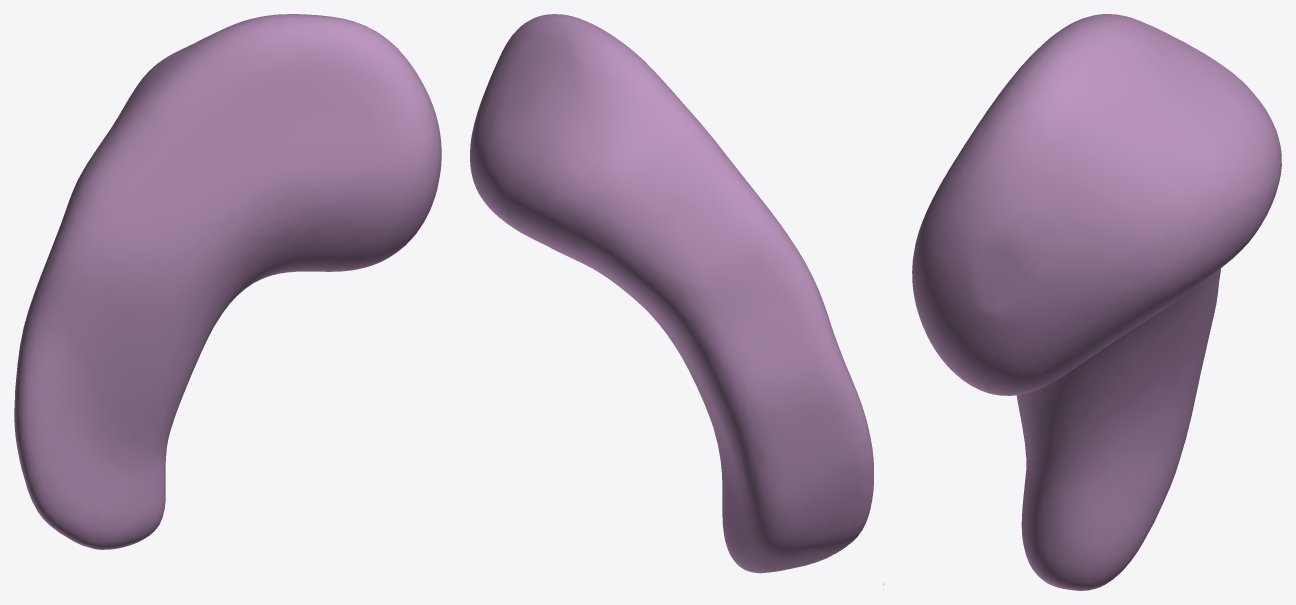
3 views of the same model, side by side, from view 1: azimuth 30°, elevation 25°; view 2: azimuth 150°, elevation 25°; view 3: azimuth 270°, elevation 25° (orthographic). The views are drawn at different scales.
Visible parts, largest first — view 1: 右侧下半月小叶; view 2: 右侧下半月小叶; view 3: 右侧下半月小叶.
Part boxes in pixels (x1,y1,x2,y2): 右侧下半月小叶: [14, 14, 441, 549]; 右侧下半月小叶: [470, 14, 883, 589]; 右侧下半月小叶: [912, 14, 1281, 590].
Bounding box in the file's own units: 0.07 × 0.0858 × 0.0421.
